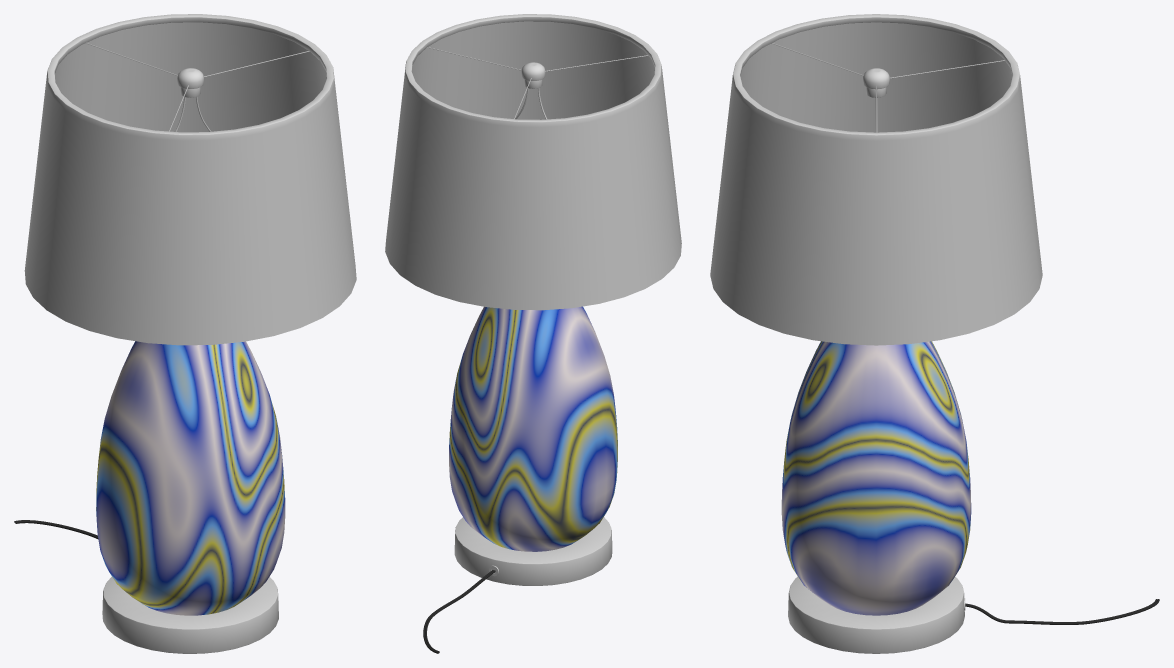
The model's file is table_lamp.glb.
The picture shows the model from 3 angles, left to right: view 1: azimuth 30°, elevation 25°; view 2: azimuth 150°, elevation 25°; view 3: azimuth 270°, elevation 25°; orthographic projection. The views are drawn at different scales.
Parts seen in each view (by area): view 1: Lamp_0; view 2: Lamp_0; view 3: Lamp_0.
Boxes of the visible parts, <box> form: Lamp_0: <box>14,14,356,653</box>; Lamp_0: <box>385,14,681,653</box>; Lamp_0: <box>710,14,1159,653</box>.
Size of the model in its own units: 0.381 by 0.6919 by 0.5151.
Materials: 5 (1 with a texture image).
